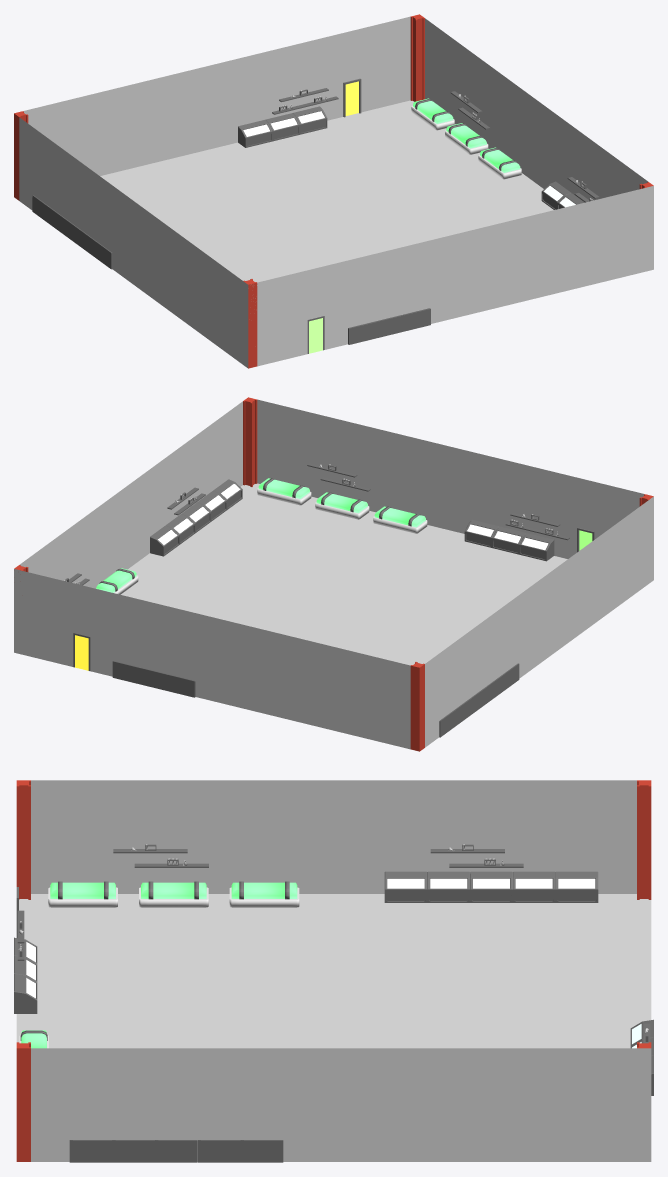
File: level2.fbx
The picture shows the model from 3 angles, top to bottom: view 1: azimuth 30°, elevation 25°; view 2: azimuth 150°, elevation 25°; view 3: azimuth 270°, elevation 25°; orthographic projection. The views are drawn at different scales.
Visible parts, largest first — view 1: floor.001, wall.006, wall.007, wall.005, wall.008, life_pod.001, container.003, container.005, container.002, girder.004, girder.006, container.004 (+1 smaller); view 2: floor.001, wall.007, wall.006, wall.005, wall.008, life_pod.003, container.004, container.005, container.003, container.002, girder.005, girder.007 (+1 smaller); view 3: floor.001, wall.008, wall.005, container.002, life_pod.002, container.004, girder.005, girder.007, girder.006, container.005, container.003.
Part boxes in pixels (x1,y1,x2,y2): floor.001: [100, 100, 553, 282]; wall.006: [251, 186, 653, 366]; wall.007: [23, 16, 410, 175]; wall.005: [19, 117, 248, 368]; wall.008: [425, 18, 648, 202]; life_pod.001: [411, 98, 521, 179]; container.003: [238, 106, 327, 147]; container.005: [348, 308, 430, 344]; container.002: [32, 195, 112, 269]; girder.004: [410, 14, 424, 101]; girder.006: [243, 279, 257, 368]; container.004: [541, 181, 584, 209]; floor.001: [121, 483, 567, 665]; wall.007: [14, 569, 410, 749]; wall.006: [257, 399, 644, 558]; wall.005: [425, 496, 653, 747]; wall.008: [19, 401, 242, 588]; life_pod.003: [257, 478, 427, 533]; container.004: [150, 479, 242, 556]; container.005: [464, 519, 554, 561]; container.003: [112, 661, 195, 697]; container.002: [439, 663, 519, 737]; girder.005: [243, 397, 257, 486]; girder.007: [410, 662, 424, 751]; floor.001: [16, 894, 651, 1048]; wall.008: [31, 1048, 651, 1161]; wall.005: [31, 780, 636, 893]; container.002: [384, 871, 598, 902]; life_pod.002: [48, 881, 299, 907]; container.004: [69, 1140, 283, 1162]; girder.005: [16, 1042, 30, 1161]; girder.007: [637, 780, 651, 899]; girder.006: [16, 780, 30, 899]; container.005: [14, 937, 37, 1013]; container.003: [630, 1019, 653, 1095].
Bounding box in the file's own units: 2252 × 442 × 2260.
